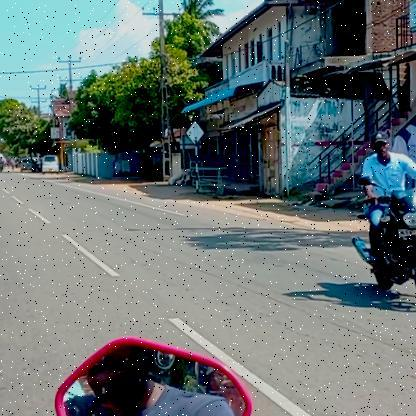motorcycle: (350, 184, 416, 313)
